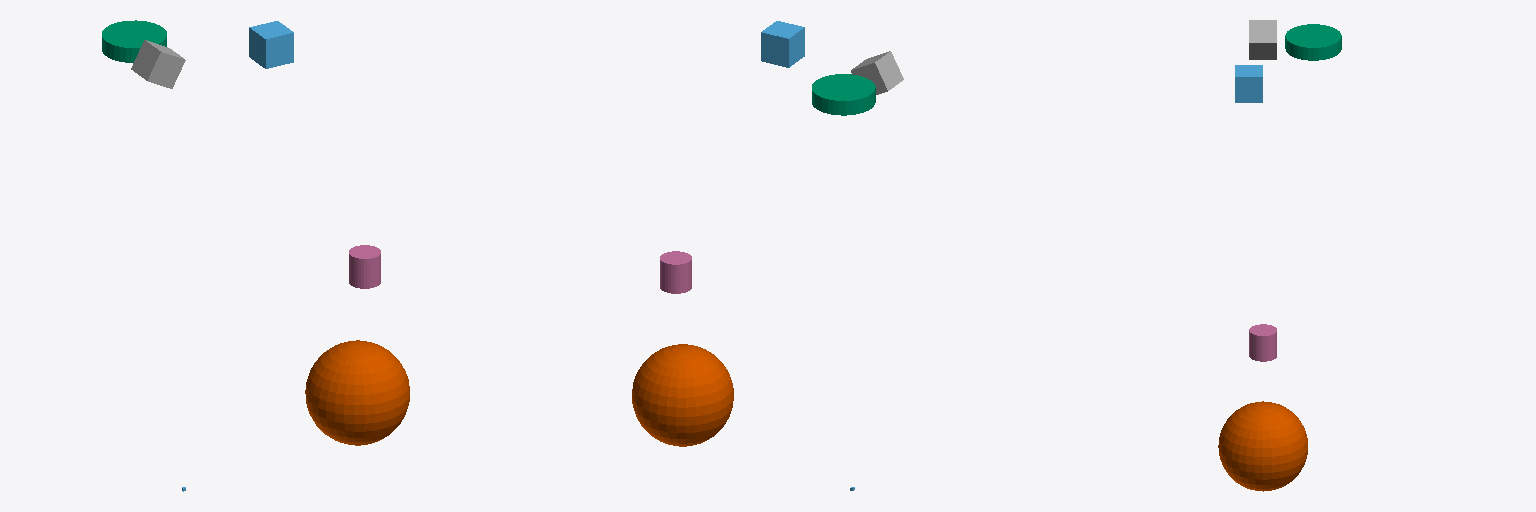
URDF robot description (Jaymii):
<?xml version="1.0"?>

<robot name="Jaymii" xmlns:xacro="http://www.ros.org/wiki/xacro">
  <link name="base_footprint" />
  <!-- base link must have geometry so its axis display in rviz-->
  <link name="base_link">
    <visual>
      <geometry>
        <box size="0.01 0.01 0.01"/>
      </geometry>
    </visual>
  </link>
  <gazebo reference="base_link">
    <material>Gazebo/Grey</material>
  </gazebo>

  <gazebo reference="body">
    <material>Gazebo/Grey</material>
    <mu1>0.2</mu1>
    <mu2>0.2</mu2>
  </gazebo>

  <link name="axle">
    <inertial>
      <origin xyz="0 0 0" />
      <mass value="1.0" />
      <inertia  ixx="0.0" ixy="0.0"  ixz="1.0"  iyy="-0.066042"  iyz="0.0"  izz="0.0" />
    </inertial>
    <visual>
      <geometry>
        <mesh filename="model://urdf/meshes/Axle.dae"/>
      </geometry>
    </visual>
    <collision>
      <geometry>
        <mesh filename="model://urdf/meshes/Axle.dae"/>
      </geometry>
    </collision>
  </link>

  <link name="left_wheel">
    <inertial>
      <origin xyz="0 0 0" />
      <mass value="30.0" />
      <inertia  ixx="0.994968" ixy="-0.100194"  ixz="0.0"  iyy="0.994968"  iyz="0.0"  izz="-1.0" />
    </inertial>
    <visual>
      <geometry>
        <mesh filename="model://urdf/meshes/Wheel.dae"/>
      </geometry>
    </visual>
    <collision>
      <geometry>
        <mesh filename="model://urdf/meshes/Wheel.dae"/>
      </geometry>
    </collision>
  </link>

  <gazebo reference="left_wheel">
    <material>Gazebo/Grey</material>
    <mu1>0.7</mu1>
    <mu2>0.75</mu2>
  </gazebo>

  <link name="right_wheel">
    <inertial>
      <origin xyz="0 0 0" />
      <mass value="30.0" />
      <inertia  ixx="0.994968" ixy="-0.100194"  ixz="0.0"  iyy="0.994968"  iyz="0.0"  izz="-1.0" />
    </inertial>
    <visual>
      <geometry>
        <mesh filename="model://urdf/meshes/Wheel.dae"/>
      </geometry>
    </visual>
    <collision>
      <geometry>
        <mesh filename="model://urdf/meshes/Wheel.dae"/>
      </geometry>
    </collision>
  </link>

  <gazebo reference="right_wheel">
    <material>Gazebo/Grey</material>
    <mu1>0.7</mu1>
    <mu2>0.75</mu2>
  </gazebo>

  <link name="front_ball">
    <inertial>
      <mass value="30.0" />
      <origin xyz="0 0 0" />
      <mass value="1.0" />
      <inertia  ixx="10.0" ixy="-0.0000004"  ixz="0.1"  iyy="0.0"  iyz="-0.0000004"  izz="0.0" />
    </inertial>
    <visual>
      <geometry>
        <sphere radius="0.16"/>
      </geometry>
    </visual>
    <collision>
      <geometry>
        <sphere radius="0.16"/>
      </geometry>
    </collision>
  </link>

  <link name="lidar">
    <visual>
      <geometry>
        <cylinder radius="0.05" length="0.1"/>
      </geometry>
    </visual>
  </link>

  <gazebo reference="lidar">
    <sensor type="ray" name="lidar">
      <visualize>false</visualize>
      <update_rate>30</update_rate>
      <ray>
        <scan>
          <horizontal>
            <samples>500</samples>
            <min_angle>-3.14159265359</min_angle>
            <max_angle>3.14159265359</max_angle>
          </horizontal>
          <vertical>
            <samples>16</samples>
            <min_angle>-0.2617993878</min_angle>
            <max_angle>0.2617993878</max_angle>
          </vertical>
        </scan>
        <range>
          <min>0.05</min>
          <max>70</max>
          <resolution>0.02</resolution>
        </range>
      </ray>
      <plugin name="lidar_plugin" filename="libgazebo_ros_block_laser.so">
        <topicName>/scan</topicName>
        <frameName>/lidar</frameName>
        <alwaysOn>true</alwaysOn>
        <updateRate>5</updateRate>
      </plugin>
    </sensor>
  </gazebo>

  <link name="usb_cam_center">
    <visual>
      <geometry>
        <box size="0.1 0.1 0.1"/>
      </geometry>
    </visual>
  </link>

  <link name="optical_cam_center"/>

  <gazebo reference="usb_cam_center">
    <sensor name="center_camera" type="camera">
        <camera>
          <!-- <horizontal_fov>1.2290609</horizontal_fov> -->
          <horizontal_fov>2.239</horizontal_fov>
          <vertical_fov>1.995</vertical_fov>
          <image>
            <width>640</width>
            <height>512</height>
          </image>
          <clip>
            <near>0.1</near>
            <far>100</far>
          </clip>
          <!--
          <distortion>
            <k1>-0.25</k1>
            <k2>0.12</k2>
            <k3>0.0</k3>
            <p1>-0.00028</p1>
            <p2>-0.00005</p2>
            <center>0.5 0.5</center>
          </distortion>
          -->
        </camera>
        <always_on>1</always_on>
        <update_rate>30</update_rate>
        <plugin name="camera_controller" filename="libgazebo_ros_camera.so">
          <alwaysOn>true</alwaysOn>
          <updateRate>30.0</updateRate>
          <cameraName>usb_cam_center</cameraName>
          <imageTopicName>image_raw</imageTopicName>
          <cameraInfoTopicName>camera_info</cameraInfoTopicName>
          <frameName>optical_cam_center</frameName>
          <hackBaseline>0.0</hackBaseline>
          <distortionK1>0.0</distortionK1>
          <distortionK2>0.0</distortionK2>
          <distortionK3>0.0</distortionK3>
          <distortionT1>0.0</distortionT1>
          <distortionT2>0.0</distortionT2>
        </plugin>
      </sensor>
  </gazebo>

  <link name="imu">
    <visual>
      <geometry>
        <box size="0.1 0.1 0.1"/>
      </geometry>
    </visual>
  </link>

  <link name="gps">
    <visual>
      <geometry>
        <cylinder length="0.05" radius="0.1"/>
      </geometry>
    </visual>
  </link>

  <gazebo>
    <plugin name="gazebo_ros_control" filename="libgazebo_ros_control.so">
      <robotSimType>gazebo_ros_control/DefaultRobotHWSim</robotSimType>
    </plugin>
    <plugin filename="libhector_gazebo_ros_imu.so" name="imu">
      <serviceName>/imu/calibrate</serviceName>
      <updateRate>200.0</updateRate>
      <bodyName>imu</bodyName>
      <frameId>imu</frameId>
      <topicName>/imu</topicName>
      <rpyOffset>0 0 0</rpyOffset>
      <xyzOffset>0 0 0</xyzOffset>
      <gaussianNoise>0.00000001</gaussianNoise>
      <accelDrift>0.00000001 0.00000001 0.00000001</accelDrift>
      <accelDriftFrequency>0.00000001 0.00000001 0.00000001</accelDriftFrequency>
      <accelGaussianNoise>0.00000001 0.00000001 0.00000001</accelGaussianNoise>
      <rateDrift>0.0 0.0 0.0</rateDrift>
      <rateDriftFrequency>0.0 0.0 0.0</rateDriftFrequency>
      <rateGaussianNoise>0.0 0.0 0.0</rateGaussianNoise>
      <headingDrift>0.0 0.0 0.0</headingDrift>
      <headingDriftFrequency>0.0 0.0 0.0</headingDriftFrequency>
      <headingGaussianNoise>0.0 0.0 0.0</headingGaussianNoise>
      <yawOffset>1.5707963</yawOffset>
    </plugin>

    <plugin filename="libhector_gazebo_ros_gps.so" name="gps">
      <updateRate>20.0</updateRate>
      <bodyName>base_link</bodyName>
      <frameId>base_link</frameId>
      <topicName>/fix</topicName>
      <velocityTopicName>/fix_velocity</velocityTopicName>
      <referenceLatitude>33.774497</referenceLatitude>
      <referenceLongitude>-84.405001</referenceLongitude>
      <referenceAltitude>309.0</referenceAltitude>
      <drift>0.001 0.001 0.001</drift>
      <gaussianNoise>0.0001 0.0001 0.0001</gaussianNoise>
      <velocityDrift>0 0 0</velocityDrift>
      <velocityGaussianNoise>0.005 0.005 0.05</velocityGaussianNoise>
    </plugin>
  </gazebo>

  <transmission name="trans_left_wheel">
    <type>transmission_interface/SimpleTransmission</type>
    <joint name="axle_to_left_wheel">
      <hardwareInterface>hardware_interface/EffortJointInterface</hardwareInterface>
    </joint>
    <actuator name="motor1">
      <hardwareInterface>hardware_interface/EffortJointInterface</hardwareInterface>
      <mechanicalReduction>1</mechanicalReduction>
    </actuator>
  </transmission>

  <transmission name="trans_right_wheel">
    <type>transmission_interface/SimpleTransmission</type>
    <joint name="axle_to_right_wheel">
      <hardwareInterface>hardware_interface/EffortJointInterface</hardwareInterface>
    </joint>
    <actuator name="motor1">
      <hardwareInterface>hardware_interface/EffortJointInterface</hardwareInterface>
      <mechanicalReduction>1</mechanicalReduction>
    </actuator>
  </transmission>

  <joint name="base_footprint_to_base_link" type="fixed">
    <parent link="base_footprint"/>
    <child link="base_link"/>
    <origin xyz="0 0 0" rpy="0 0 0"/>
    <axis xyz="0 0 0"/>
  </joint>

  <joint name="base_footprint_to_imu" type="fixed">
    <parent link="base_footprint"/>
    <child link="imu"/>
    <origin xyz=" 0.279 -0.05 1.445" rpy="0 0 0"/>
    <axis xyz="0 0 0"/>
  </joint>

  <joint name="base_footprint_to_axle" type="fixed">
    <parent link="base_footprint"/>
    <child link="axle"/>
    <origin xyz="0 0 0.18" rpy="1.5708 0 0"/>
    <axis xyz="0 0 0"/>
  </joint>

  <joint name="base_footprint_to_lidar" type="fixed">
    <origin xyz="0.635 0.0 .597" rpy="0 0 0" />
    <parent link="base_footprint"/>
    <child link="lidar"/>
  </joint>

  <joint name="base_footprint_to_center_camera" type="fixed">
    <origin xyz="-.09 0 1.445" rpy="0 .5 0" />
    <parent link="base_footprint"/>
    <child link="usb_cam_center"/>
  </joint>

  <joint name="axle_to_left_wheel" type="continuous">
    <origin xyz="0 0 -.26" rpy="0 0 0" />
    <parent link="axle"/>
    <axis xyz="0 0 -1" rpy="0 0 0"/>
    <child link="left_wheel"/>
  </joint>

  <joint name="axle_to_right_wheel" type="continuous">
    <origin xyz="0 0 .26" rpy="0 0 0" /> <!-- -1.5708 -->
    <parent link="axle"/>
     <axis xyz="0 0 -1" rpy="0 0 0"/>
    <child link="right_wheel"/>
  </joint>

  <joint name="base_footprint_to_gps" type="fixed">
    <origin xyz="-0.07112 0.178 1.445" rpy="0 0 0" /> <!-- -1.5708 -->
    <parent link="base_footprint"/>
    <child link="gps"/>
  </joint>

  <!--
  <joint name="imu_to_body" type="fixed">
    <origin xyz="-.5 -.5 0" rpy="0 0 0" /> -1.5708
    <parent link="imu"/>
    <child link="body"/>
  </joint>
-->
  <!--must have a joint so it is not assumed to be the base link but the ball joint not in URDF must add it in gazebo tag-->
  <joint name="base_footprint_to_front_ball" type="floating">
    <parent link="base_footprint"/>
    <child link="front_ball"/>
    <origin xyz=".610 0.0 0.18" rpy="0 0 0" />
  </joint>

  <joint name="optical_cam_center_joint" type="fixed">
    <parent link="usb_cam_center"/>
    <child link="optical_cam_center"/>
    <origin xyz="0 0 0" rpy="-1.5708 0 -1.5708"/>
  </joint>

  <gazebo>
    <joint name='base_footprint_to_front_ball' type='ball'>
      <parent>imu</parent>
      <child>front_ball</child>
      <pose frame=''>0 0 0 0 0 0</pose>
      <physics>
        <ode>
          <limit>
            <cfm>0</cfm>
            <erp>0.2</erp>
          </limit>
          <suspension>
            <cfm>0</cfm>
            <erp>0.2</erp>
          </suspension>
        </ode>
      </physics>
    </joint>
  </gazebo>
</robot>

--- Facts derived from the render (not from the file) ---
The picture shows the robot from 3 angles, left to right: view 1: azimuth 30°, elevation 25°; view 2: azimuth 150°, elevation 25°; view 3: azimuth 270°, elevation 25°; orthographic projection.
Robot: Jaymii — 11 links, 10 joints (2 continuous, 7 fixed, 1 floating); root link base_footprint; default pose: all joints at 0.
Visible links, largest first — view 1: front_ball, gps, imu, usb_cam_center, lidar; view 2: front_ball, gps, imu, lidar, usb_cam_center; view 3: front_ball, gps, usb_cam_center, imu, lidar.
Link boxes in pixels (x1,y1,x2,y2): front_ball: (305, 340, 409, 445); gps: (102, 20, 166, 62); imu: (249, 21, 293, 68); usb_cam_center: (131, 40, 185, 88); lidar: (349, 245, 380, 288); front_ball: (632, 344, 733, 446); gps: (812, 74, 875, 115); imu: (761, 21, 804, 67); lidar: (660, 251, 691, 293); usb_cam_center: (851, 51, 903, 94); front_ball: (1218, 401, 1307, 491); gps: (1285, 24, 1341, 60); usb_cam_center: (1249, 20, 1276, 59); imu: (1235, 65, 1262, 102); lidar: (1249, 324, 1276, 361).
Size in the robot's own frame: 0.9411 by 0.438 by 1.52 metres.
0 mesh visuals loaded from 2 distinct referenced files (none loaded); not drawn: 3 (file found but could not be loaded).
